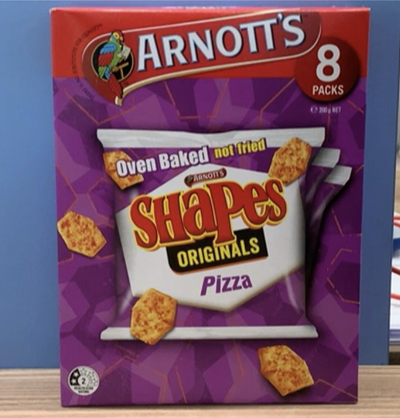crackers_200g-299g: (65, 24, 351, 397)
